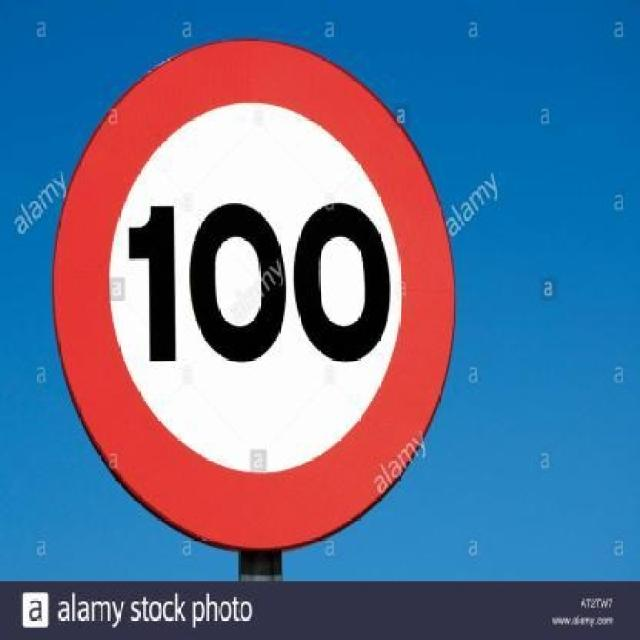forb_speed_over_100: (57, 46, 457, 549)
